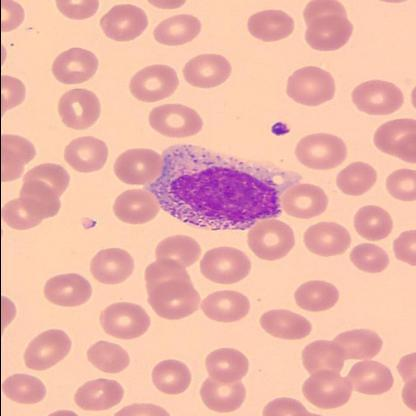Promyelocyte: (141, 144, 298, 232)
